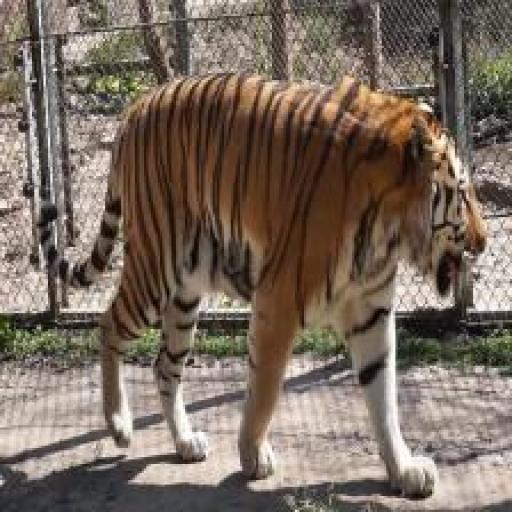Tiger: (18, 39, 484, 489)
